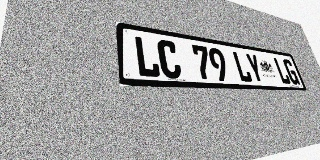7: (190, 44, 215, 81)
9: (207, 47, 230, 81)
C: (156, 39, 183, 79)
G: (282, 59, 300, 85)
L: (133, 35, 161, 78), (231, 51, 253, 83), (273, 57, 292, 84)
Y: (244, 53, 265, 83)
